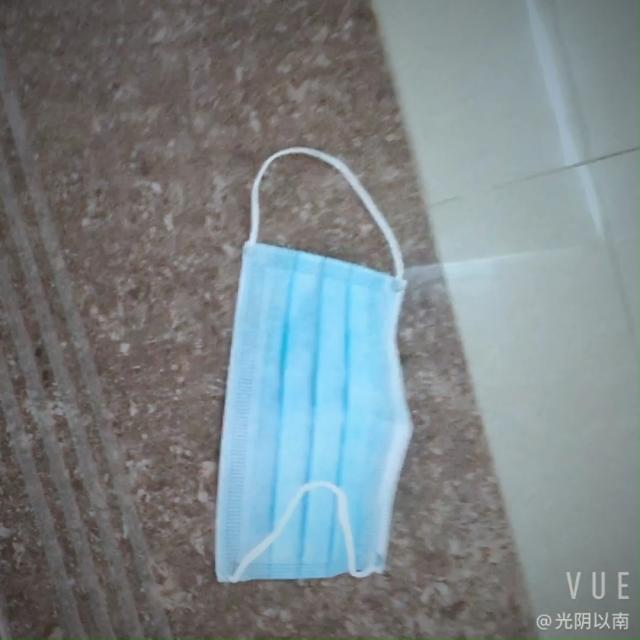non-organic waste: (196, 248, 423, 599)
